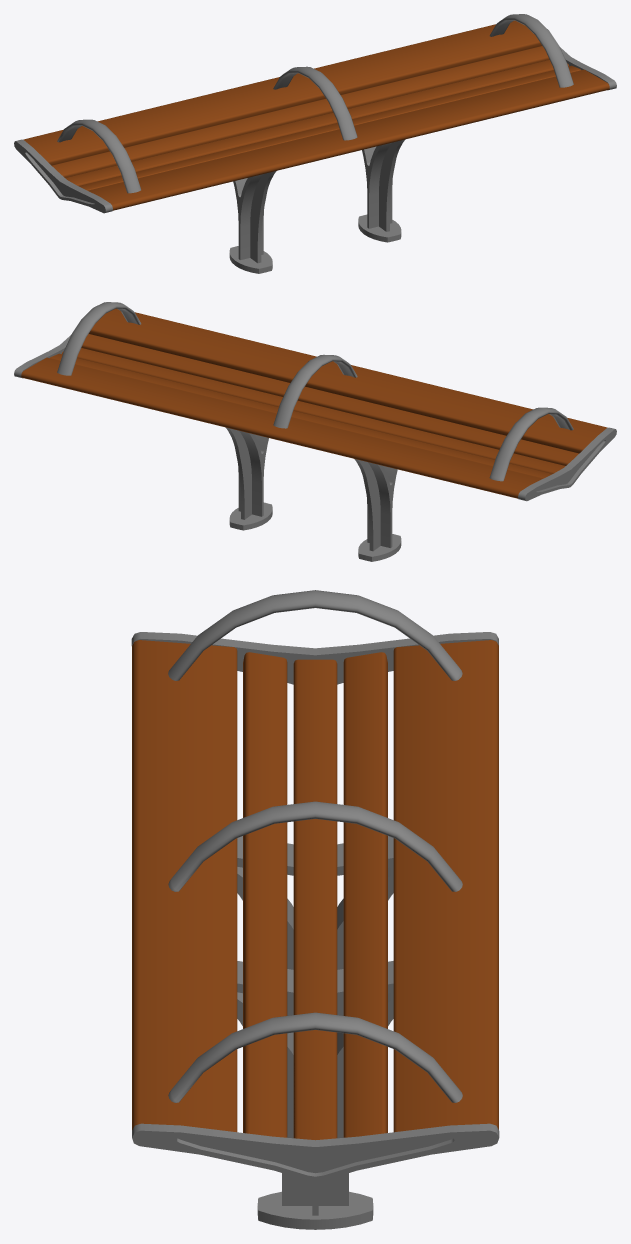
3 renders of one model, top to bottom at view 1: azimuth 30°, elevation 25°; view 2: azimuth 150°, elevation 25°; view 3: azimuth 270°, elevation 25°, orthographic. The views are drawn at different scales.
Parts seen in each view (by area): view 1: mesh1_mesh1-geometry, mesh4_mesh4-geometry, mesh9_mesh9-geometry, mesh16_mesh16-geometry, mesh12_mesh12-geometry, mesh7_mesh7-geometry; view 2: mesh1_mesh1-geometry, mesh4_mesh4-geometry, mesh9_mesh9-geometry, mesh16_mesh16-geometry, mesh12_mesh12-geometry, mesh7_mesh7-geometry; view 3: mesh1_mesh1-geometry, mesh4_mesh4-geometry, mesh16_mesh16-geometry, mesh12_mesh12-geometry, mesh9_mesh9-geometry, mesh7_mesh7-geometry.
Part boxes in pixels (x1=…): mesh1_mesh1-geometry: x1=23, y1=20, x2=609, y2=210; mesh4_mesh4-geometry: x1=51, y1=46, x2=580, y2=190; mesh9_mesh9-geometry: x1=233, y1=139, x2=405, y2=263; mesh16_mesh16-geometry: x1=57, y1=14, x2=573, y2=193; mesh12_mesh12-geometry: x1=14, y1=46, x2=616, y2=213; mesh7_mesh7-geometry: x1=229, y1=214, x2=401, y2=273; mesh1_mesh1-geometry: x1=21, y1=308, x2=607, y2=498; mesh4_mesh4-geometry: x1=50, y1=334, x2=578, y2=478; mesh9_mesh9-geometry: x1=225, y1=427, x2=397, y2=551; mesh16_mesh16-geometry: x1=57, y1=302, x2=573, y2=481; mesh12_mesh12-geometry: x1=14, y1=334, x2=616, y2=501; mesh7_mesh7-geometry: x1=229, y1=502, x2=401, y2=561; mesh1_mesh1-geometry: x1=132, y1=640, x2=498, y2=1132; mesh4_mesh4-geometry: x1=243, y1=652, x2=387, y2=1140; mesh16_mesh16-geometry: x1=168, y1=590, x2=462, y2=1102; mesh12_mesh12-geometry: x1=131, y1=632, x2=499, y2=1181; mesh9_mesh9-geometry: x1=237, y1=836, x2=393, y2=1215; mesh7_mesh7-geometry: x1=257, y1=1191, x2=373, y2=1229.
Bounding box in the file's own units: 0.9119 × 0.2962 × 0.284.
